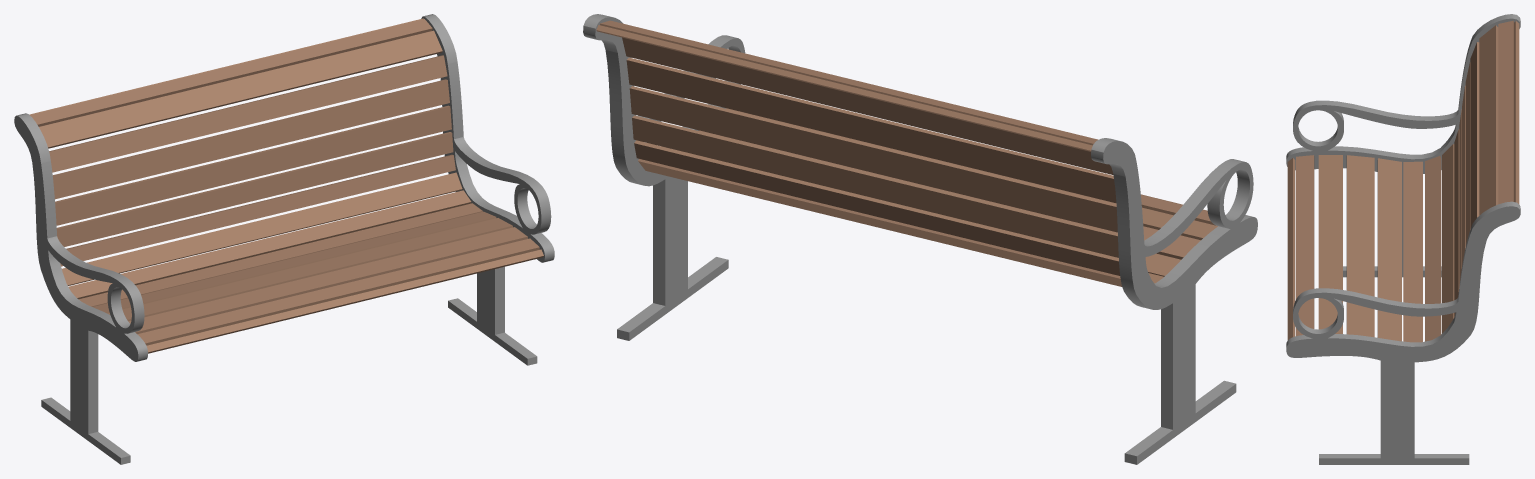
File: Bench_01.FBX
3 views of the same model, side by side, from view 1: azimuth 30°, elevation 25°; view 2: azimuth 150°, elevation 25°; view 3: azimuth 270°, elevation 25° (orthographic). The views are drawn at different scales.
Parts seen in each view (by area): view 1: Bench_01; view 2: Bench_01; view 3: Bench_01.
Boxes of the visible parts, x1,y1,x2,y2 form: Bench_01: (14, 14, 554, 464); Bench_01: (583, 14, 1257, 464); Bench_01: (1286, 14, 1520, 464).
Size of the model in its own units: 320 by 201 by 165.
